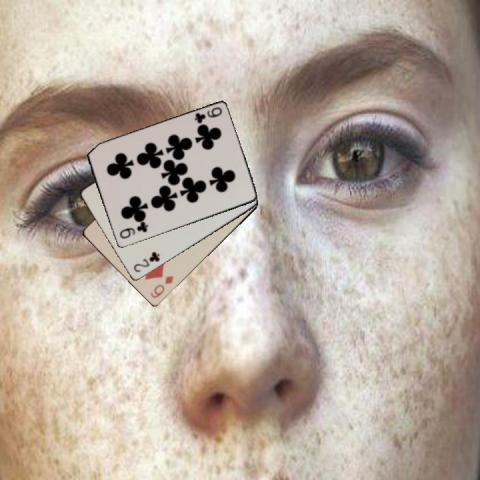2c: (131, 249, 161, 274)
6d: (147, 273, 175, 299)
9c: (192, 104, 224, 125), (117, 221, 149, 241)
